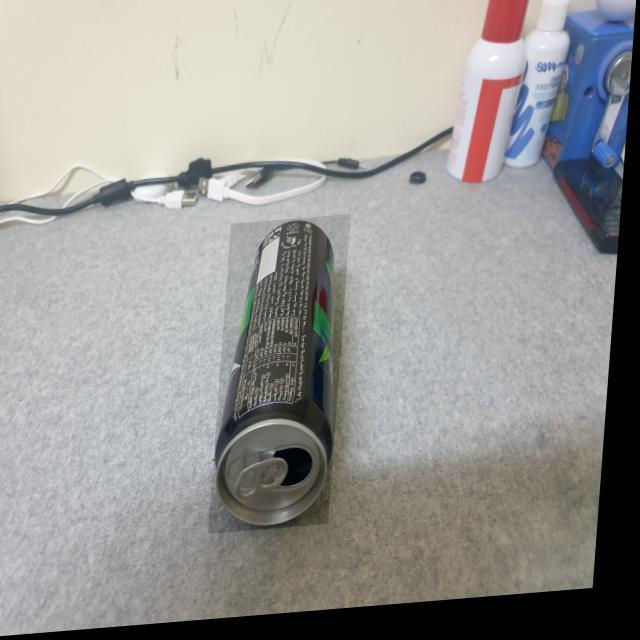trash: (212, 224, 346, 532)
